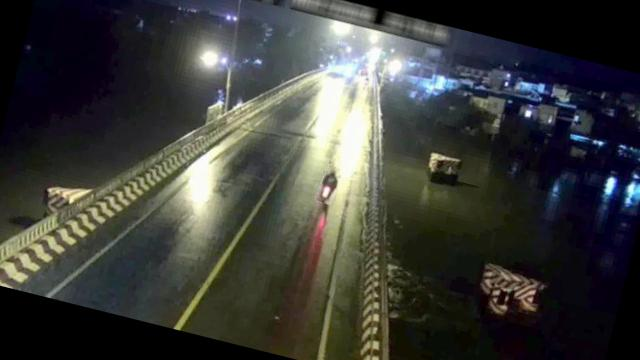Bike: (316, 164, 342, 206)
